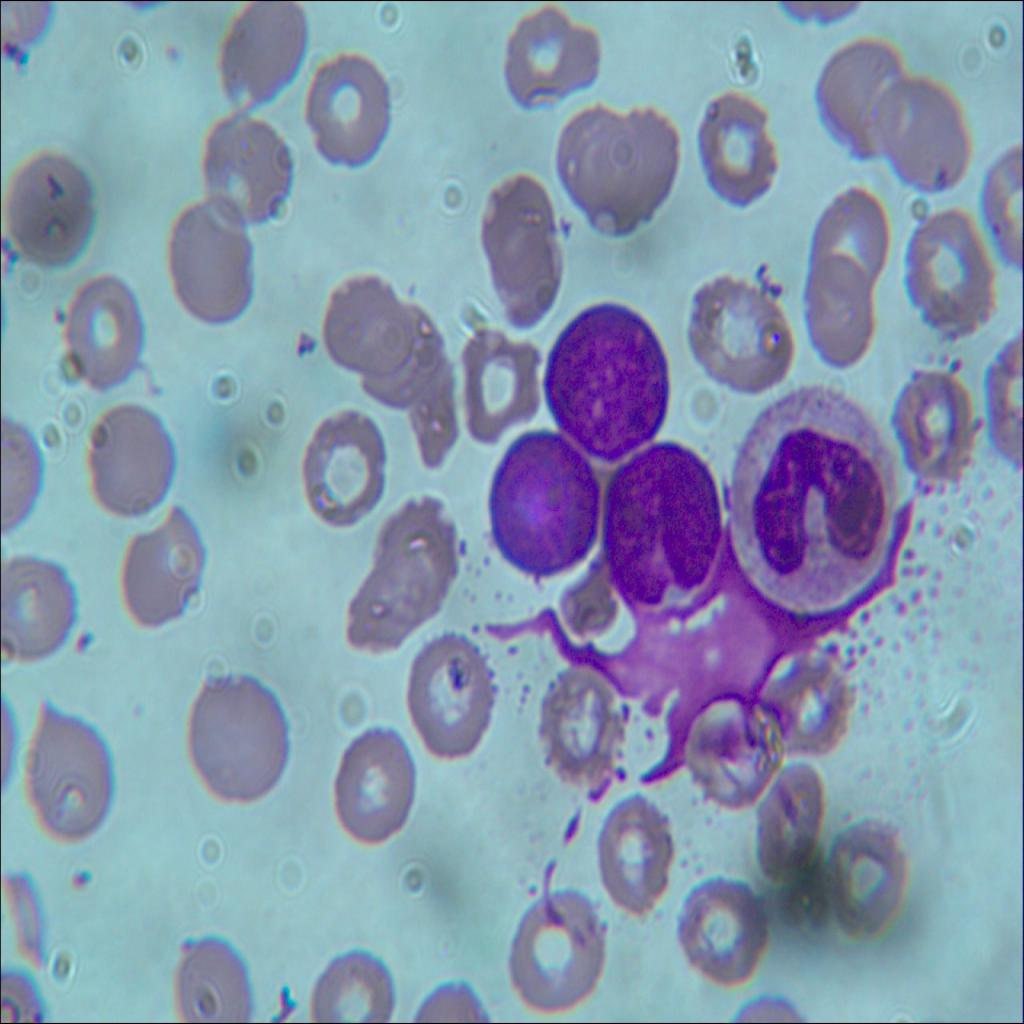Eritrosit: (188, 672, 296, 818), (0, 144, 102, 287), (683, 266, 799, 390), (499, 884, 609, 1012), (302, 392, 398, 538), (589, 103, 686, 237), (298, 50, 398, 175), (495, 2, 606, 114), (114, 497, 206, 632), (675, 872, 776, 994), (696, 81, 784, 219), (868, 82, 975, 194), (26, 710, 119, 836), (906, 208, 999, 334), (52, 271, 146, 394), (816, 37, 910, 159), (592, 785, 678, 918), (81, 404, 181, 518), (333, 721, 421, 850), (823, 811, 908, 944), (166, 205, 262, 322), (406, 634, 490, 760), (551, 98, 639, 216), (894, 365, 979, 487), (801, 182, 895, 292), (203, 111, 293, 224), (215, 2, 313, 105), (456, 318, 543, 432), (0, 555, 81, 675), (688, 700, 776, 810), (766, 642, 852, 754), (746, 768, 826, 887), (536, 668, 618, 784), (804, 254, 875, 372), (359, 305, 442, 405), (171, 927, 253, 1023), (496, 225, 566, 329), (403, 352, 466, 465), (475, 172, 551, 264), (329, 277, 406, 367), (306, 947, 396, 1023)
Limfoblast: (600, 437, 726, 602), (481, 426, 606, 588), (542, 302, 672, 457)
Neutrofil: (724, 380, 901, 618)
Platelet: (64, 859, 89, 895), (71, 622, 94, 657)
